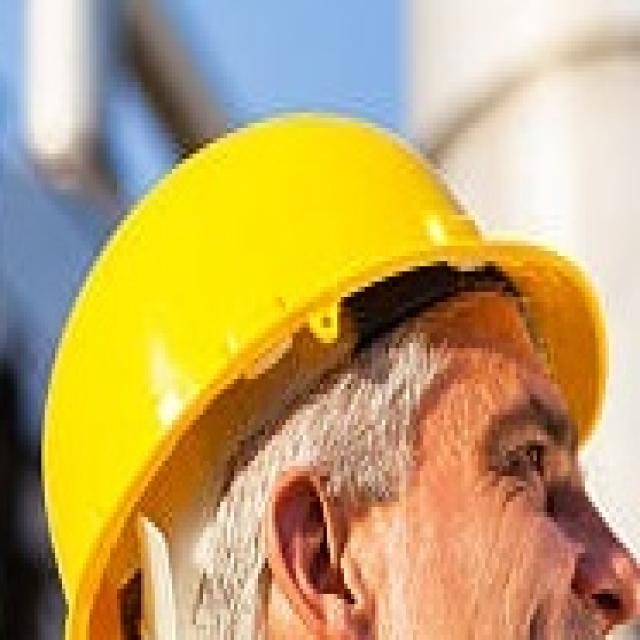safety_helmet: (40, 110, 614, 638)
